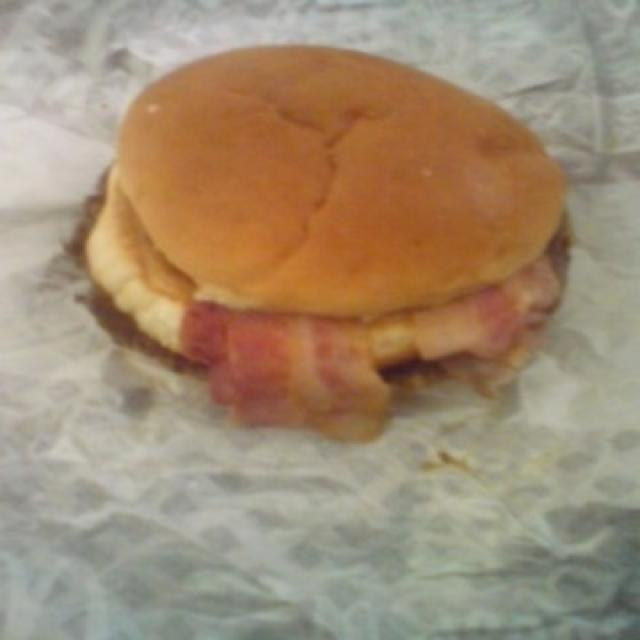Hamburger: (58, 32, 586, 422)
